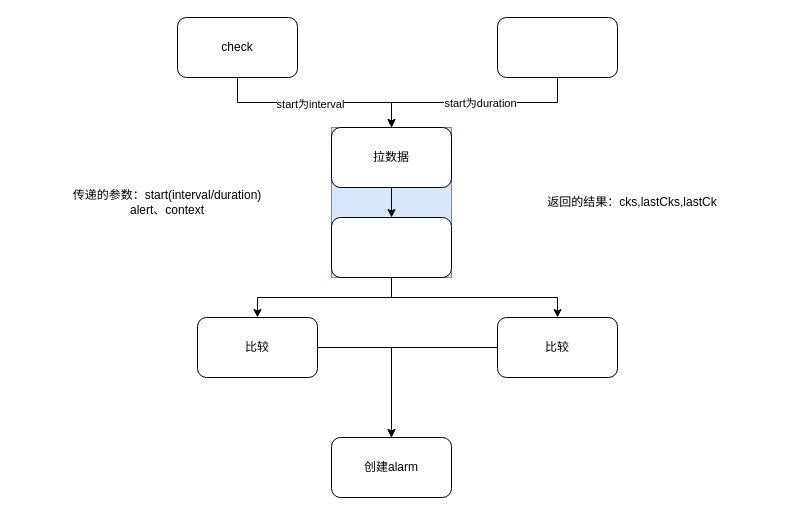
This 794x515 diagram has some shape labels left out. The box of each missing label's shape, as (x1, y1, x2, y2) in pixels:
checkv2: (496, 16, 618, 78)
拉环比数据: (330, 216, 452, 278)
